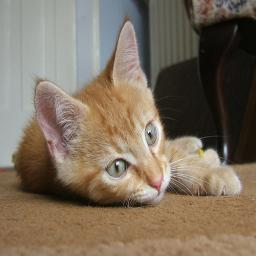catnose: (146, 168, 166, 198)
